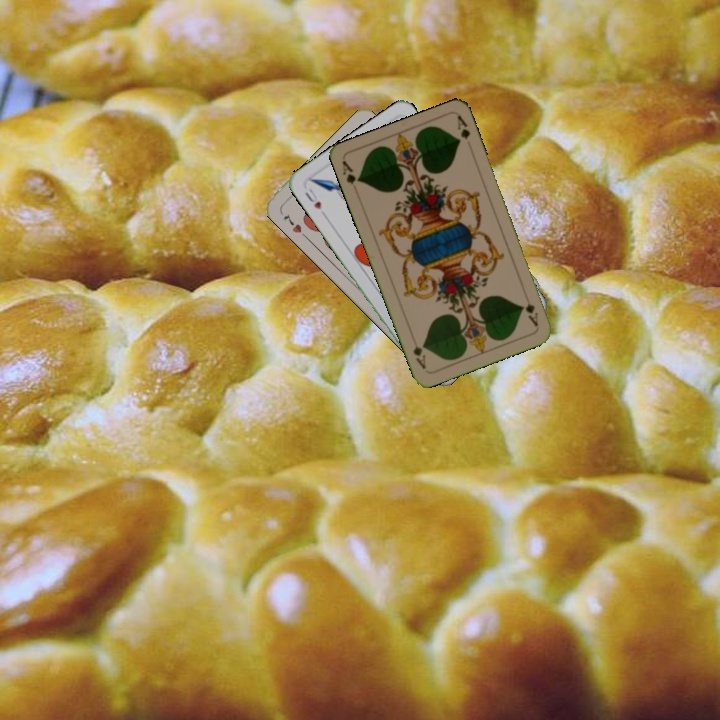GA: (519, 290, 541, 329), (338, 157, 363, 187)
H7: (279, 210, 309, 240)
HU: (301, 184, 324, 212)
